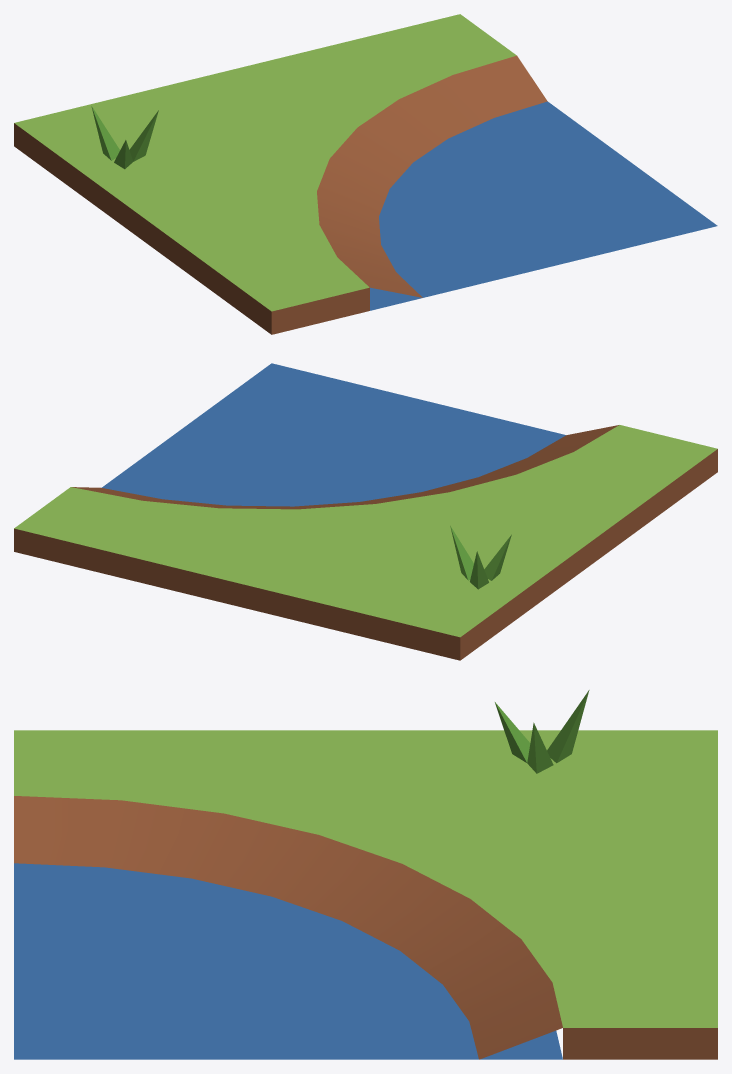
File: water_pond_corner.glb
3 views of the same model, one above another, from view 1: azimuth 30°, elevation 25°; view 2: azimuth 150°, elevation 25°; view 3: azimuth 270°, elevation 25° (orthographic). The views are drawn at different scales.
Visible parts, largest first — view 1: water_pond_corner; view 2: water_pond_corner; view 3: water_pond_corner.
Part boxes in pixels (box(x1,y1,x2,y2)): water_pond_corner: box(14, 14, 717, 334); water_pond_corner: box(14, 363, 717, 660); water_pond_corner: box(14, 690, 717, 1059).
Bounding box in the file's own units: 1 × 0.1461 × 1.
Materials: 1 (1 with a texture image).
